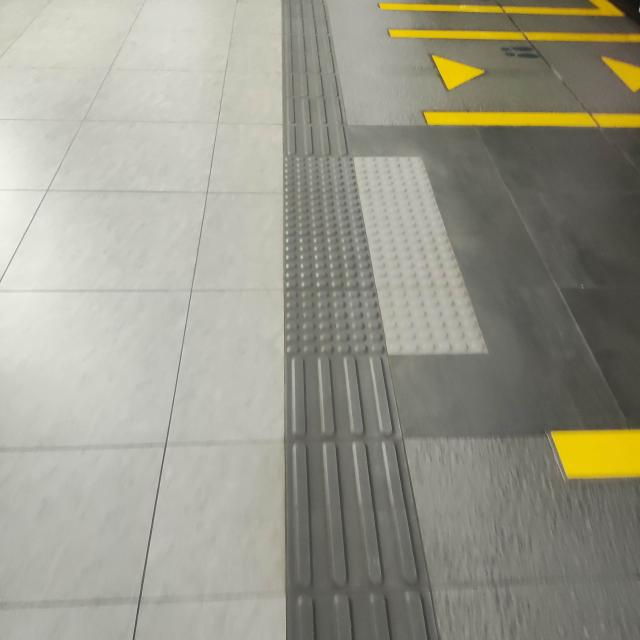lurus: (260, 0, 406, 640)
